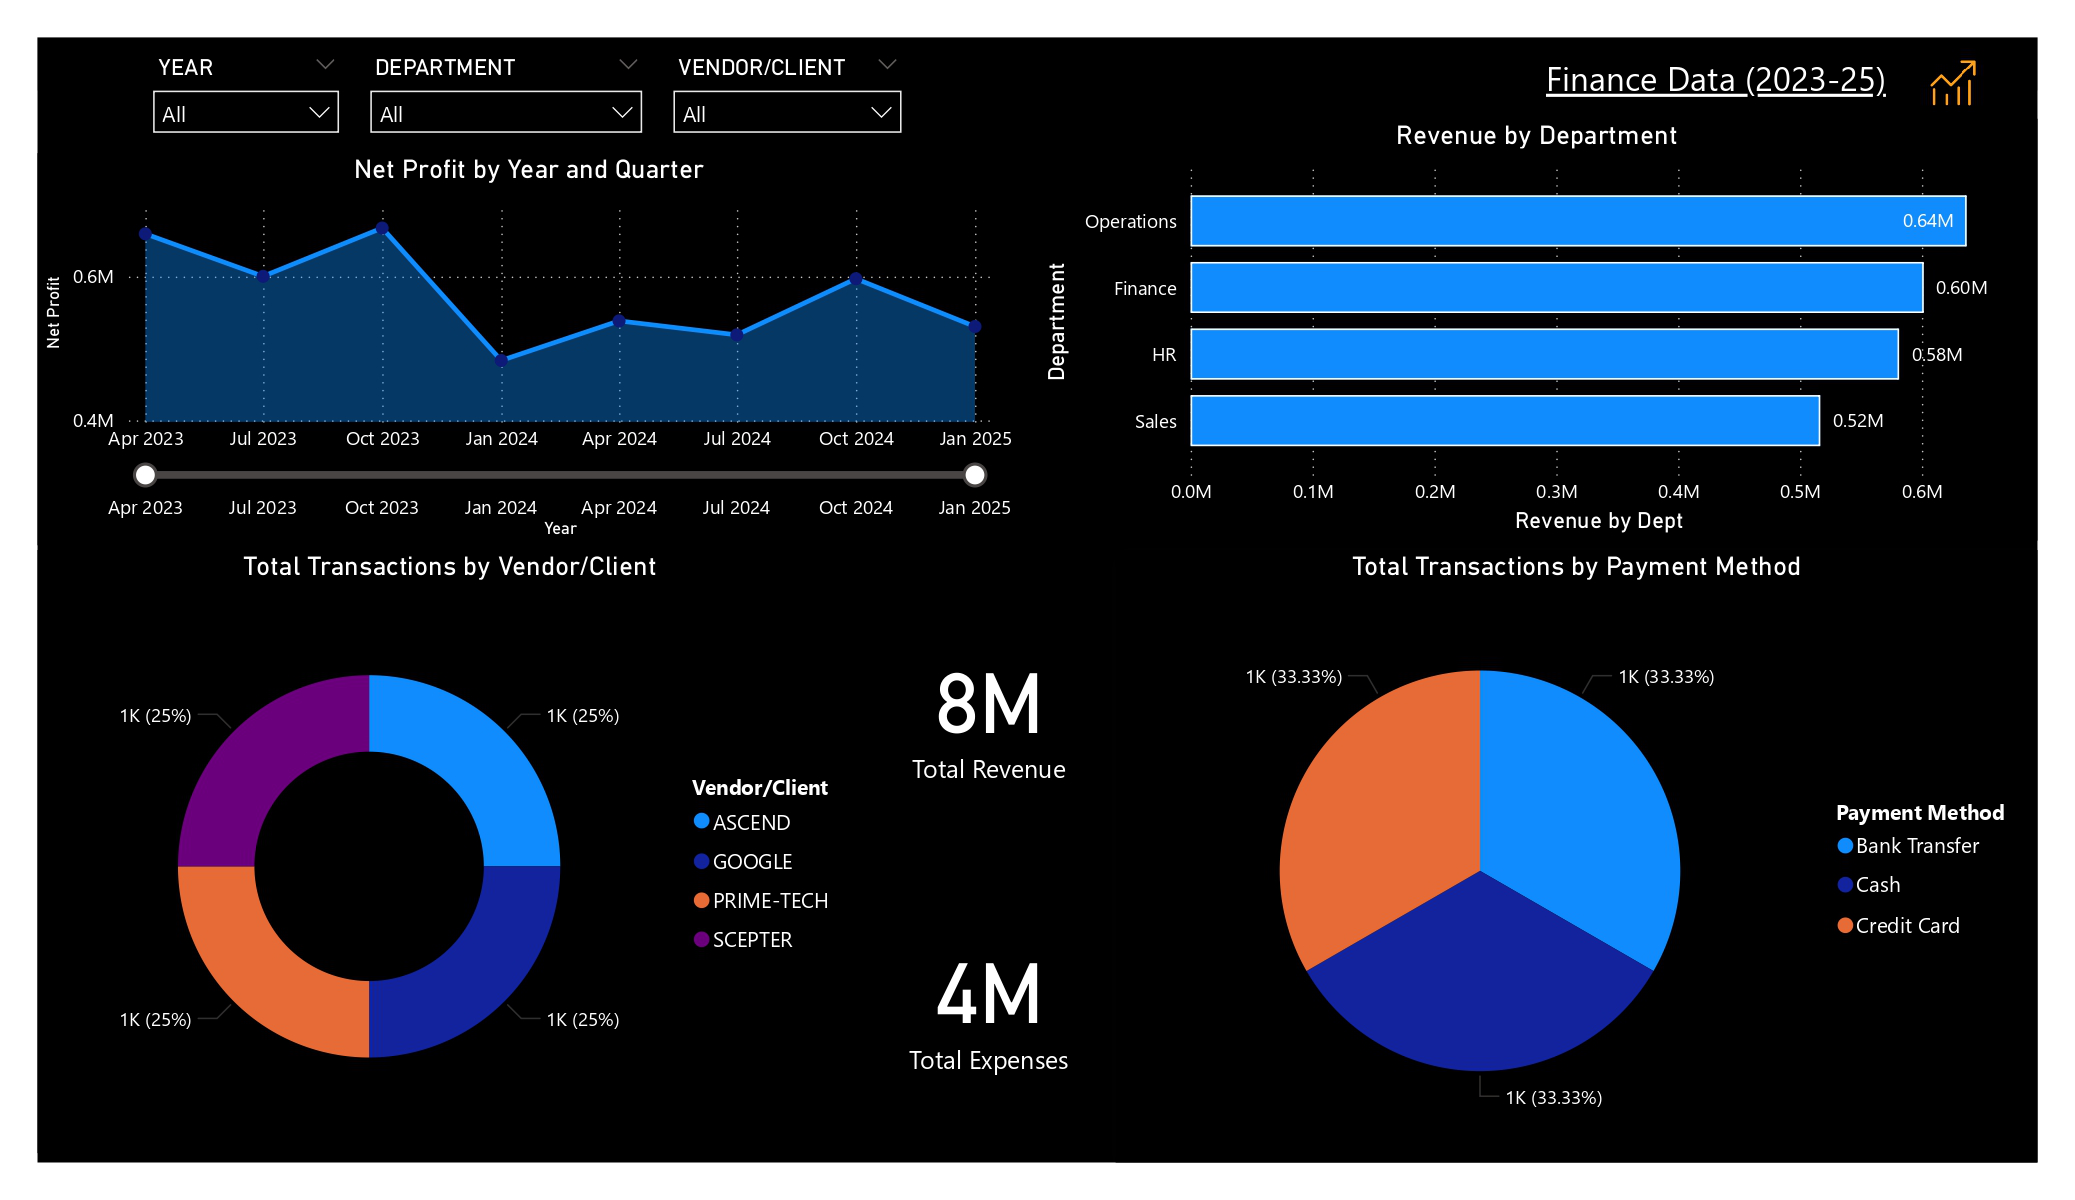

This screenshot's page, from the dashboard's own definition file:
{"tool":"powerbi","page":{"name":"Page 2","canvas":[1280,720],"ordinal":1},"visuals":[{"type":"lineChart","fields":{"Y":["Corporate Finance Data.Net Profit"],"Category":["Corporate Finance Data.Date.Variation.Date Hierarchy.Year","Corporate Finance Data.Date.Variation.Date Hierarchy.Quarter"]},"box":[0,73.7,629.3,250.9],"z":0},{"type":"barChart","title":"Revenue by Department","fields":{"Category":["Corporate Finance Data.Department"],"Y":["Corporate Finance Data.Revenue by Dept"]},"box":[639.2,52.4,640.6,269.3],"z":1000},{"type":"donutChart","fields":{"Y":["Corporate Finance Data.Total Transactions"],"Category":["Corporate Finance Data.Vendor/Client"]},"box":[0,328.3,528.5,385.9],"z":2000},{"type":"pieChart","fields":{"Category":["Corporate Finance Data.Payment Method"],"Y":["Corporate Finance Data.Total Transactions"]},"box":[689.6,328.3,590.4,391.7],"z":3000},{"type":"card","fields":{"Values":["Corporate Finance Data.Total Revenue"]},"box":[538.6,340.2,140.3,178.6],"z":4000},{"type":"card","fields":{"Values":["Corporate Finance Data.Total Expenses"]},"box":[538.6,528.7,140.3,172.9],"z":5000},{"type":"slicer","fields":{"Values":["Corporate Finance Data.Date.Variation.Date Hierarchy.Year","Corporate Finance Data.Date.Variation.Date Hierarchy.Quarter","Corporate Finance Data.Date.Variation.Date Hierarchy.Month","Corporate Finance Data.Date.Variation.Date Hierarchy.Day"]},"box":[63.8,5.7,138.9,68],"z":6000},{"type":"slicer","fields":{"Values":["Corporate Finance Data.Department"]},"box":[202.7,5.7,194.2,68],"z":7000},{"type":"slicer","fields":{"Values":["Corporate Finance Data.Vendor/Client"]},"box":[396.9,5.7,165.8,68],"z":8000},{"type":"textbox","box":[938.3,5.7,249.4,46.8],"z":9000},{"type":"image","box":[1187.7,5.7,75.1,46.8],"z":9001}]}

Visuals, with their boxes on the page's 1280x720 design canvas (x1, y1, x2, y2). These are canvas units, not pixel positions in the 2075x1200 screenshot, which may show the page scaled, cropped or inside an application window:
lineChart - Corporate Finance Data.Net Profit x Corporate Finance Data.Date.Variation.Date Hierarchy.Year: x1=0 y1=74 x2=629 y2=325
"Revenue by Department" barChart: x1=639 y1=52 x2=1280 y2=322
donutChart - Corporate Finance Data.Total Transactions x Corporate Finance Data.Vendor/Client: x1=0 y1=328 x2=528 y2=714
pieChart - Corporate Finance Data.Payment Method x Corporate Finance Data.Total Transactions: x1=690 y1=328 x2=1280 y2=720
card - Corporate Finance Data.Total Revenue: x1=539 y1=340 x2=679 y2=519
card - Corporate Finance Data.Total Expenses: x1=539 y1=529 x2=679 y2=702
slicer - Corporate Finance Data.Date.Variation.Date Hierarchy.Year x Corporate Finance Data.Date.Variation.Date Hierarchy.Quarter: x1=64 y1=6 x2=203 y2=74
slicer - Corporate Finance Data.Department: x1=203 y1=6 x2=397 y2=74
slicer - Corporate Finance Data.Vendor/Client: x1=397 y1=6 x2=563 y2=74
textbox: x1=938 y1=6 x2=1188 y2=52
image: x1=1188 y1=6 x2=1263 y2=52
